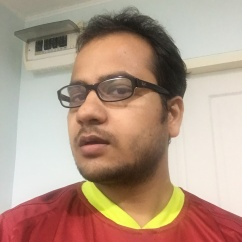glasses: (60, 80, 174, 102)
